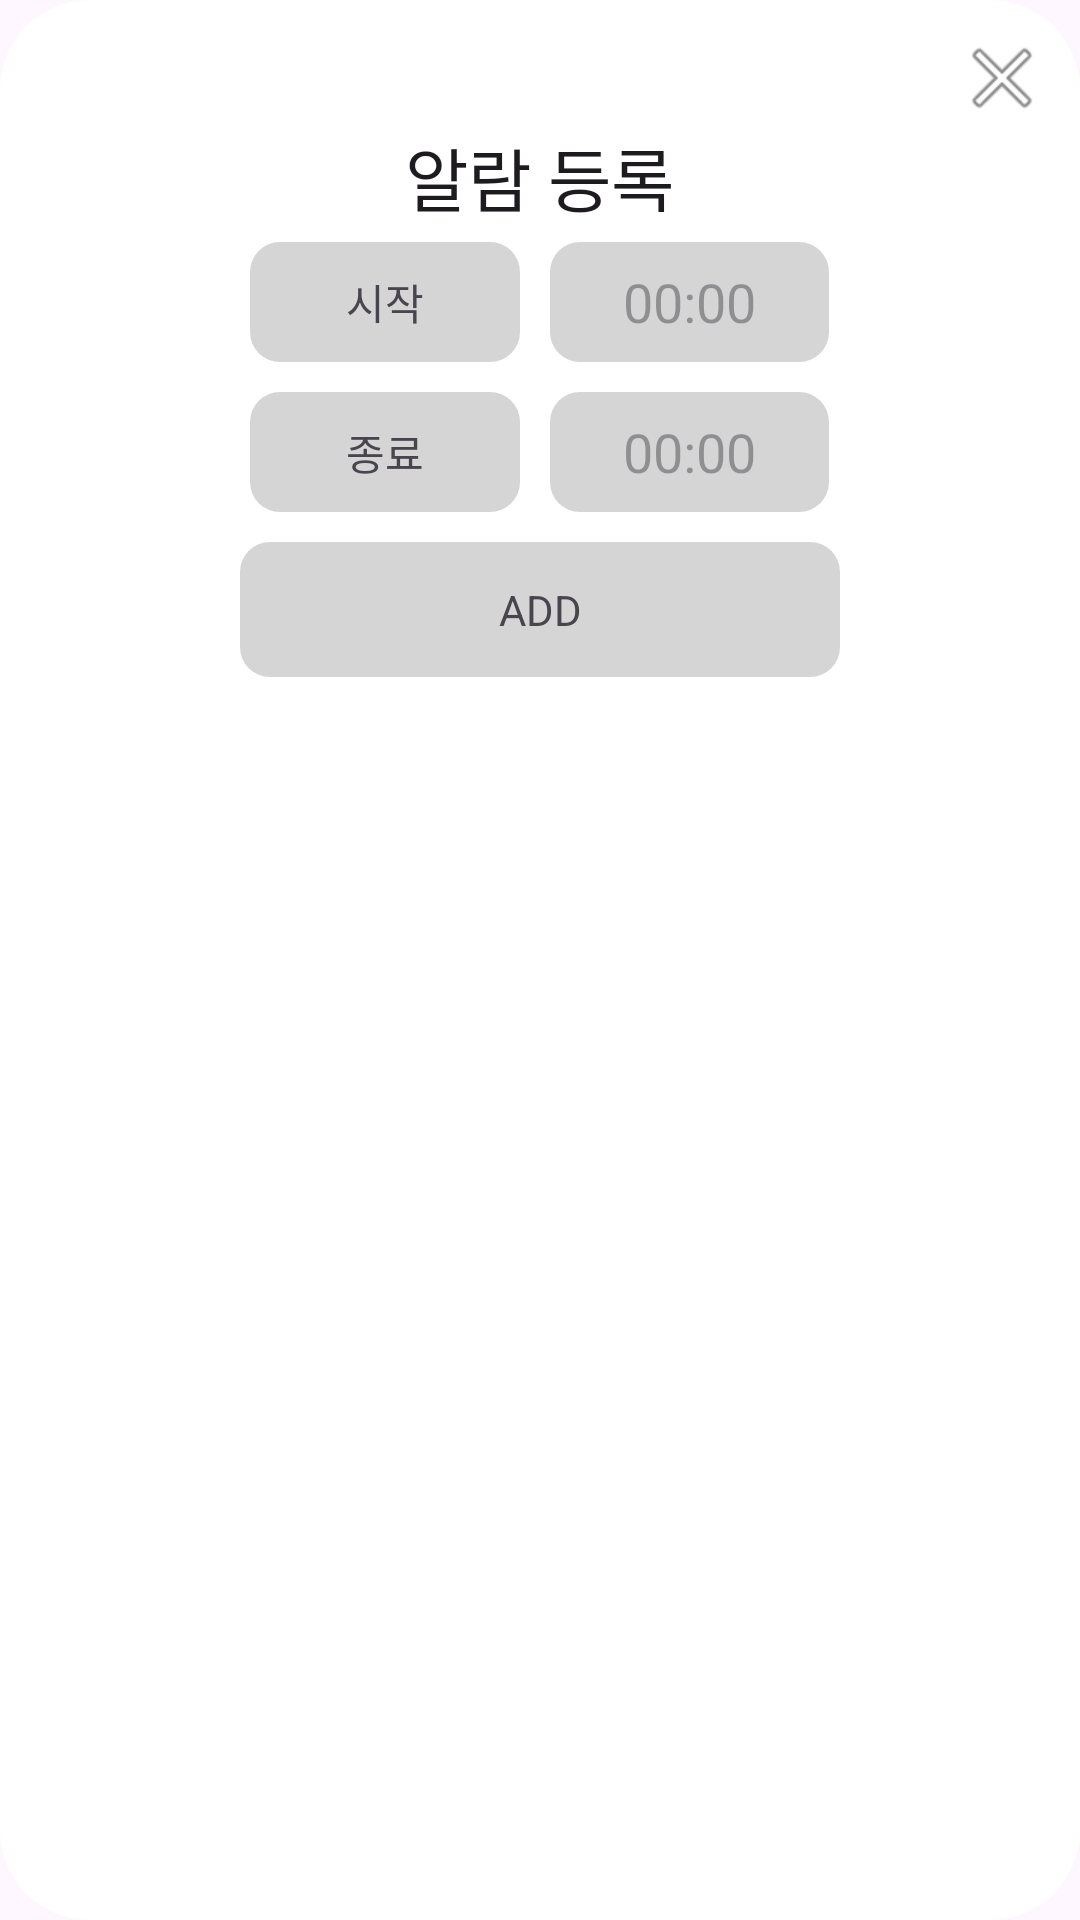

Icon click points for this 1080px x 1920px phone screenshot, format point (x, y):
close clear cancel: point (1002, 78)
